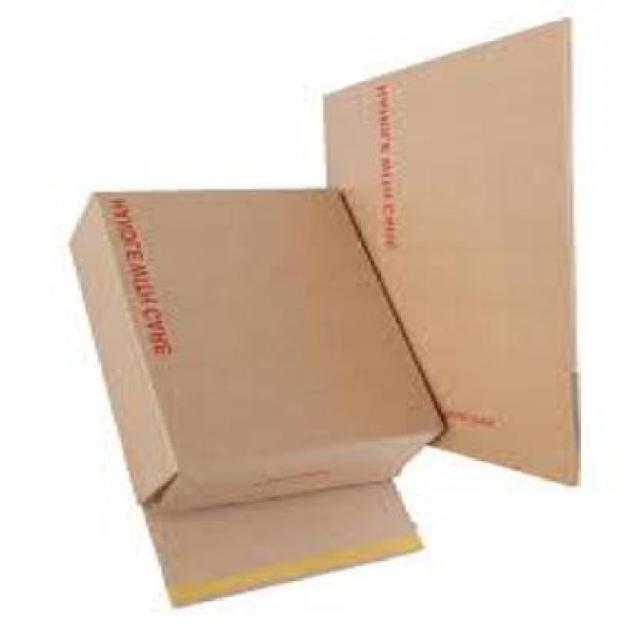normal: (68, 186, 448, 519)
